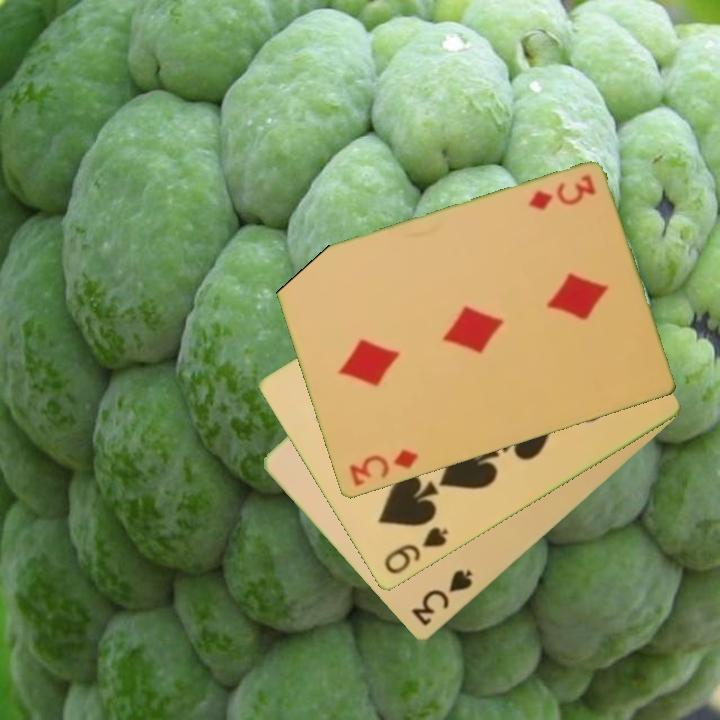3d: (345, 446, 421, 490), (524, 172, 599, 214)
3s: (407, 566, 476, 630)
9s: (380, 523, 451, 578)
